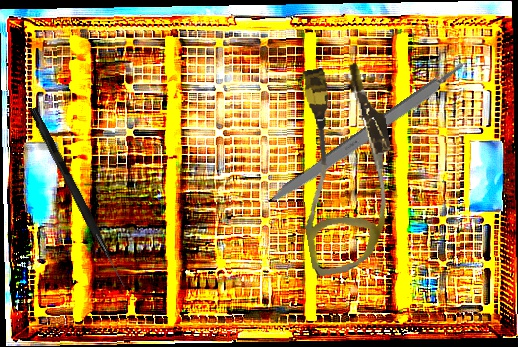Cannula: (278, 58, 411, 278)
Hook Surgical: (26, 106, 131, 290)
Scalpel Handle: (265, 60, 470, 210)
